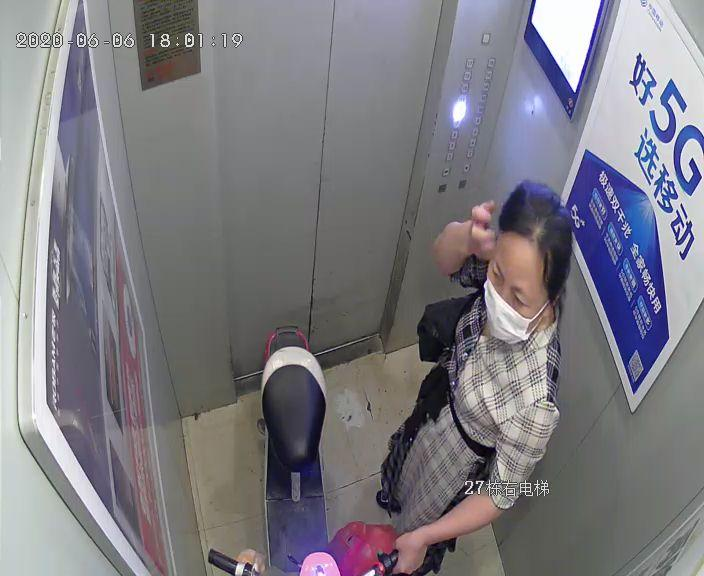Electric-bicycle: (248, 319, 340, 573)
